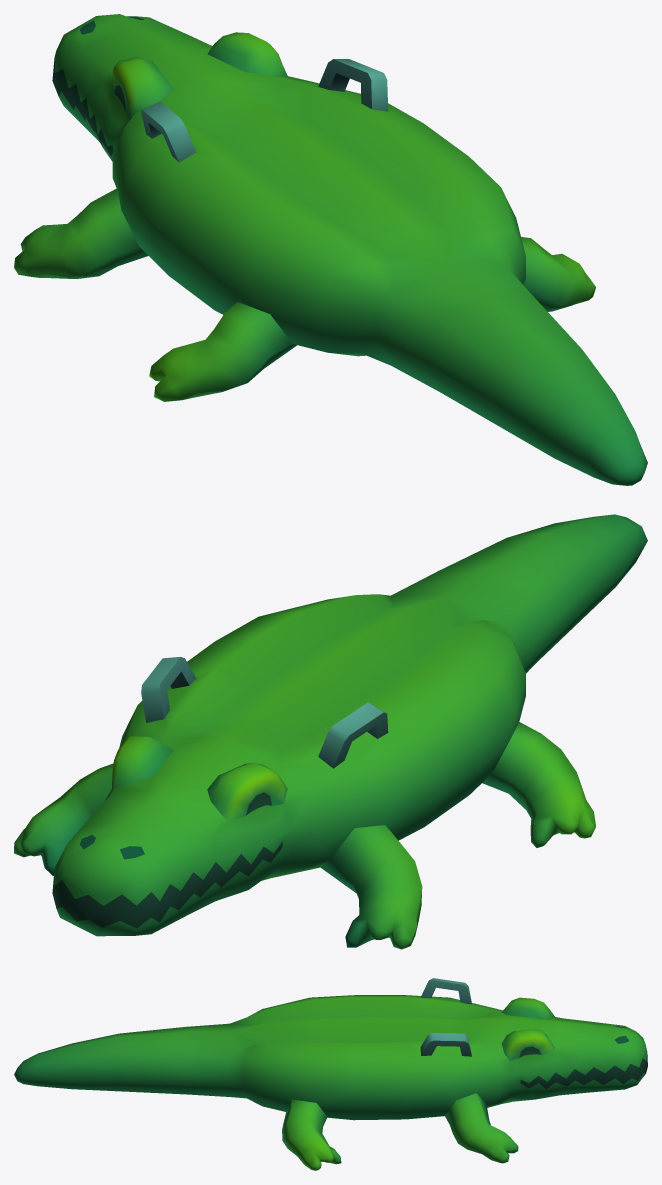
The model's file is Melee_InflatableCrocodile.fbx.
3 renders of one model, top to bottom at view 1: azimuth 30°, elevation 25°; view 2: azimuth 150°, elevation 25°; view 3: azimuth 270°, elevation 25°, orthographic. The views are drawn at different scales.
Parts seen in each view (by area): view 1: Melee_InflatableCrocodile; view 2: Melee_InflatableCrocodile; view 3: Melee_InflatableCrocodile.
Part boxes in pixels (<box>): Melee_InflatableCrocodile: <box>14,14,647,485</box>; Melee_InflatableCrocodile: <box>14,514,647,949</box>; Melee_InflatableCrocodile: <box>14,978,647,1170</box>.
Bounding box in the file's own units: 0.6132 × 1.33 × 0.2466.
